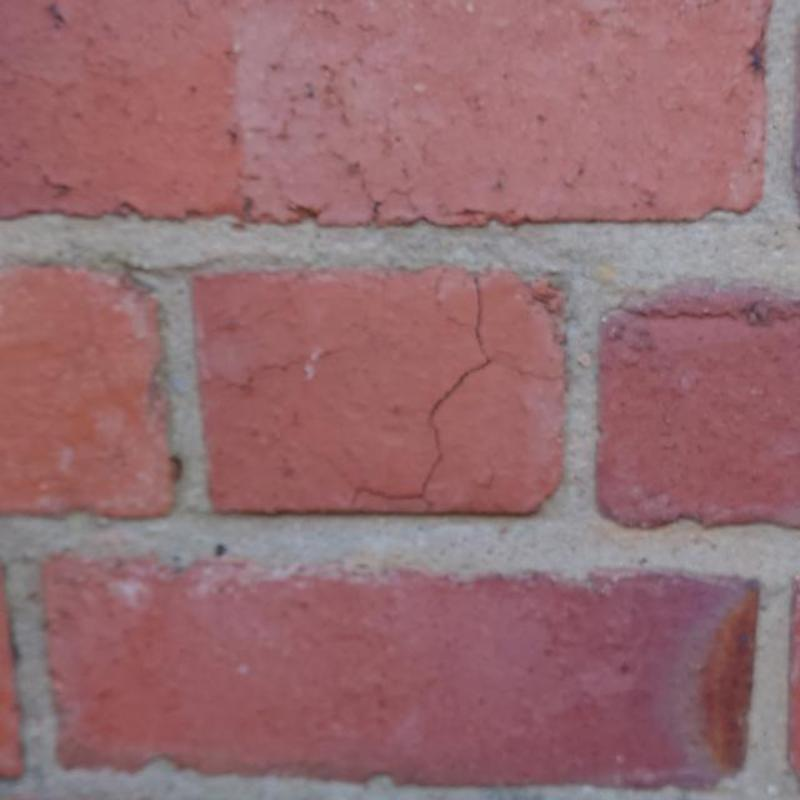pothole: (348, 274, 492, 509)
